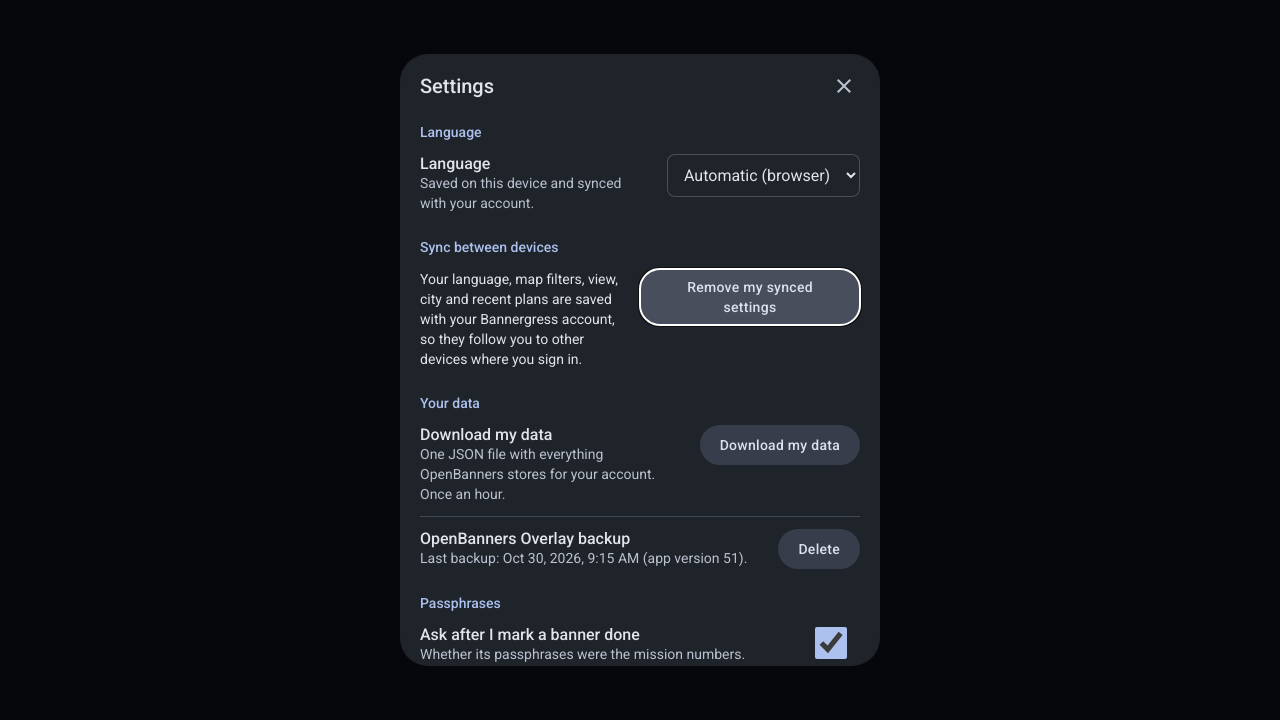
Test case: settings › a refusal by the server (another device) greys the button out too
Click the button "Download my data" at (780, 445), box [700,425,860,465]
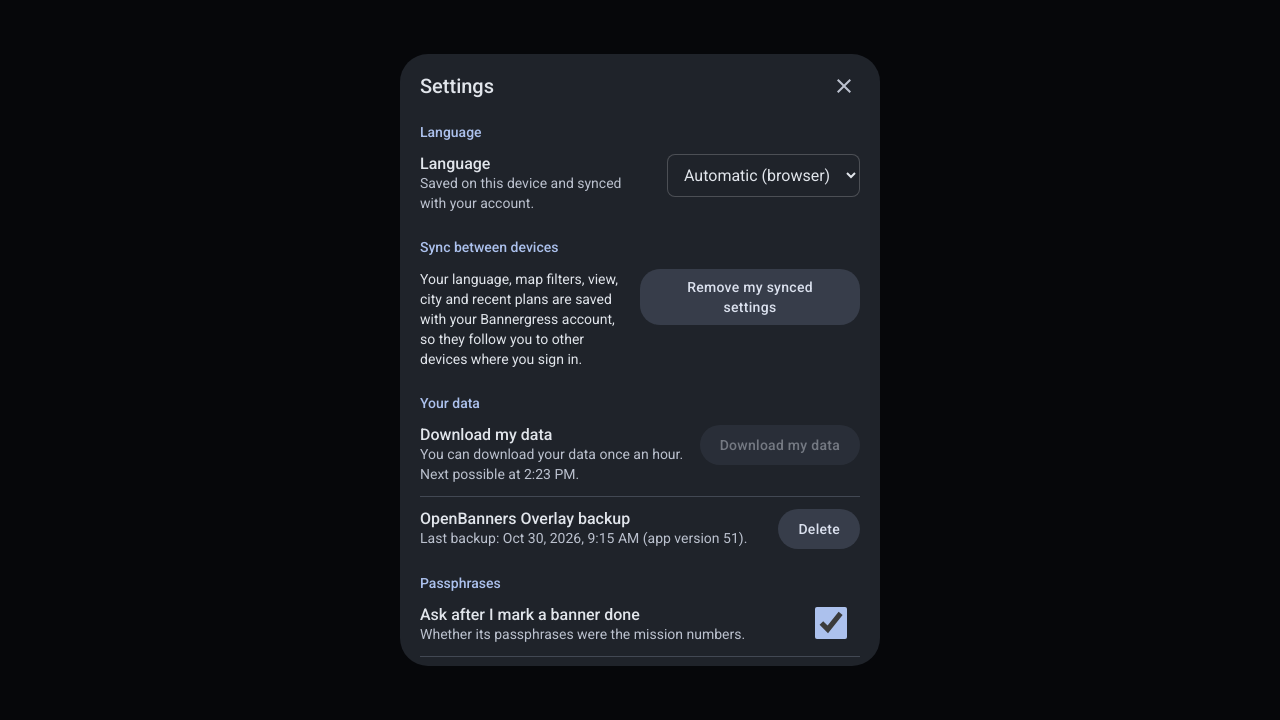
Expected: the button "Download my data" is disabled, [700,425,860,465]
Expected: the text "once an hour. Next possible at" is shown, [420,446,683,482]
